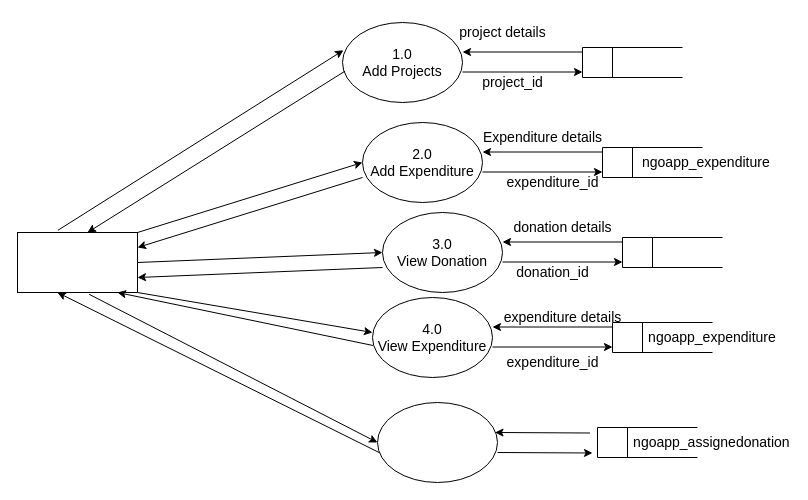
This 808x500 diagram has some shape labels left out. Here are the shapes that lost their labels. From the top down, the box of each, then its label:
(582, 46, 682, 78): ngoapp_project
(16, 232, 138, 292): NGO
(622, 236, 722, 268): ngoapp_udonation
(376, 402, 498, 482): 5.0 Assigne Donation
